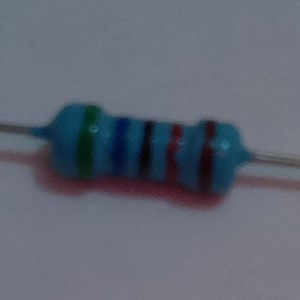black_band: (135, 119, 158, 181)
blue_band: (106, 114, 132, 181)
brown_band: (195, 118, 220, 196)
green_band: (69, 101, 104, 182)
red_band: (163, 122, 187, 188)
